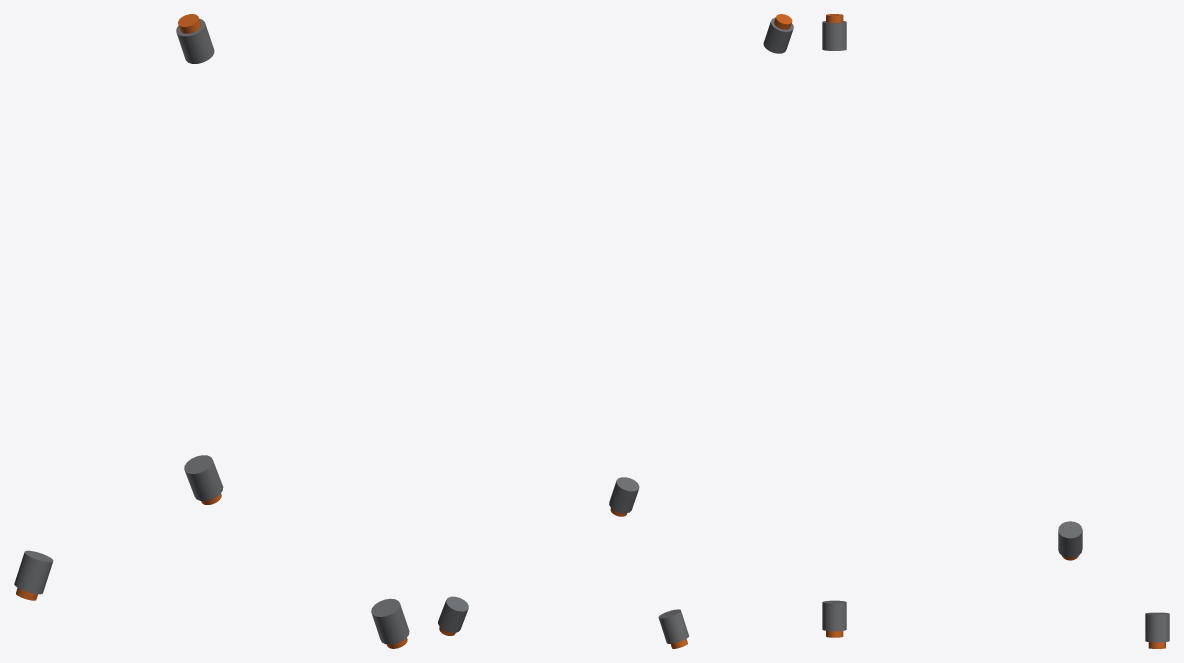
File: u73l_sensors.obj
3 renders of one model, left to right at view 1: azimuth 30°, elevation 25°; view 2: azimuth 150°, elevation 25°; view 3: azimuth 270°, elevation 25°, orthographic. The views are drawn at different scales.
Parts seen in each view (by area): view 1: u73l_sensors; view 2: u73l_sensors; view 3: u73l_sensors.
Boxes of the visible parts, x1,y1,x2,y2 form: u73l_sensors: (14, 14, 409, 648); u73l_sensors: (438, 14, 793, 648); u73l_sensors: (822, 14, 1169, 648).
Bounding box in the file's own units: 1.38 × 3.49 × 1.99.
